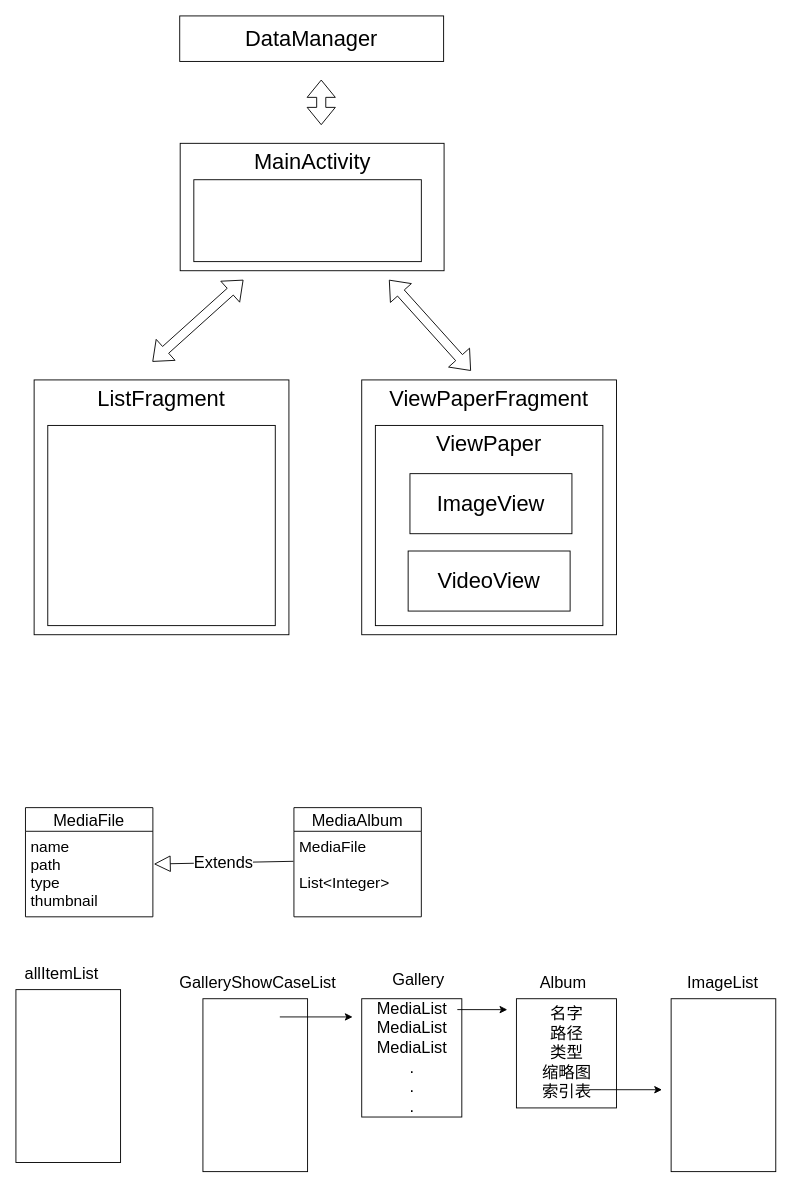
This 792x1188 diagram has some shape labels left out. Each missing label, with the centre of its shape:
"Integer Integer Integer . . . ." belongs at (x=723, y=1085).
"Layout" belongs at (x=307, y=220).
"List List . . . ." belongs at (x=255, y=1085).
"MediaFile MediaFile MediaFile MediaFile . . . ." belongs at (x=68, y=1076).
"RecyclerView" belongs at (x=161, y=525).
